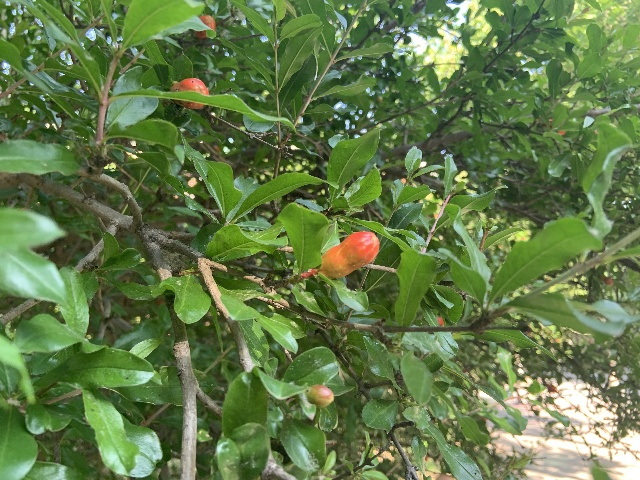bud: (320, 231, 379, 277), (168, 77, 208, 108), (307, 384, 334, 407), (193, 14, 215, 39)
